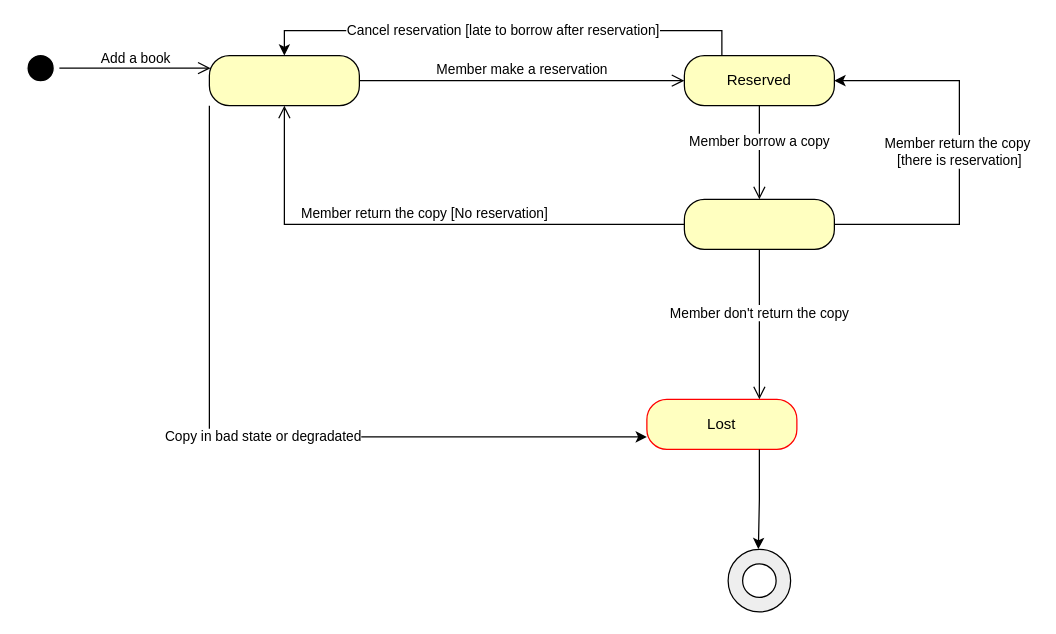
Image size: 1056x634. Some labels were removed from this diagram. The box of each missing label's shape, as (x1, y1, x2, y2) in pixels:
Available: (208, 54, 359, 106)
On loan: (683, 198, 834, 249)
